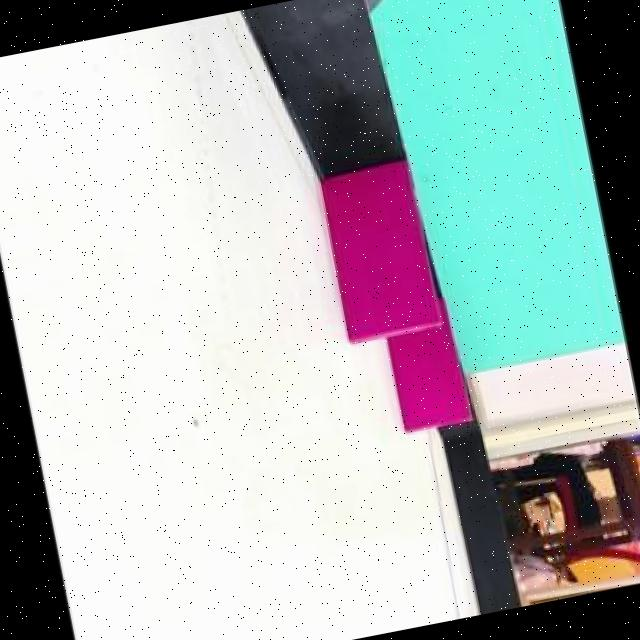xparking: (316, 164, 439, 340), (386, 324, 467, 430)
